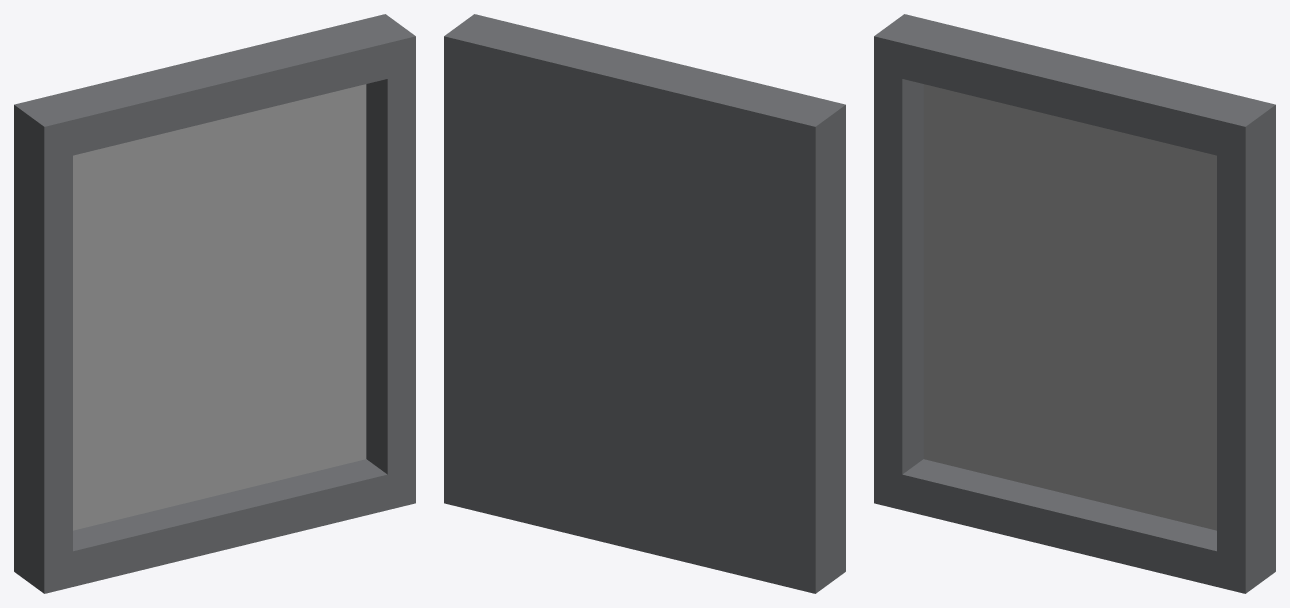
Rendered from obj_window_s.fbx.
The picture shows the model from 3 angles, left to right: view 1: azimuth 30°, elevation 25°; view 2: azimuth 150°, elevation 25°; view 3: azimuth 330°, elevation 25°; orthographic projection.
Parts seen in each view (by area): view 1: obj_window_s; view 2: obj_window_s; view 3: obj_window_s.
Boxes of the visible parts, x1,y1,x2,y2 form: obj_window_s: (14,14,415,593); obj_window_s: (444,14,845,593); obj_window_s: (874,14,1275,593).
Size of the model in its own units: 0.8324 by 1 by 0.1181.
2 materials, 1 textured.
